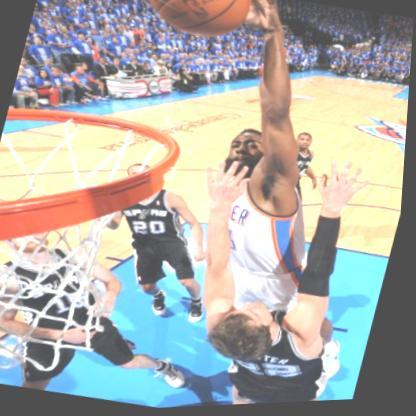basketball: (132, 0, 253, 49)
rim: (0, 96, 188, 390)
